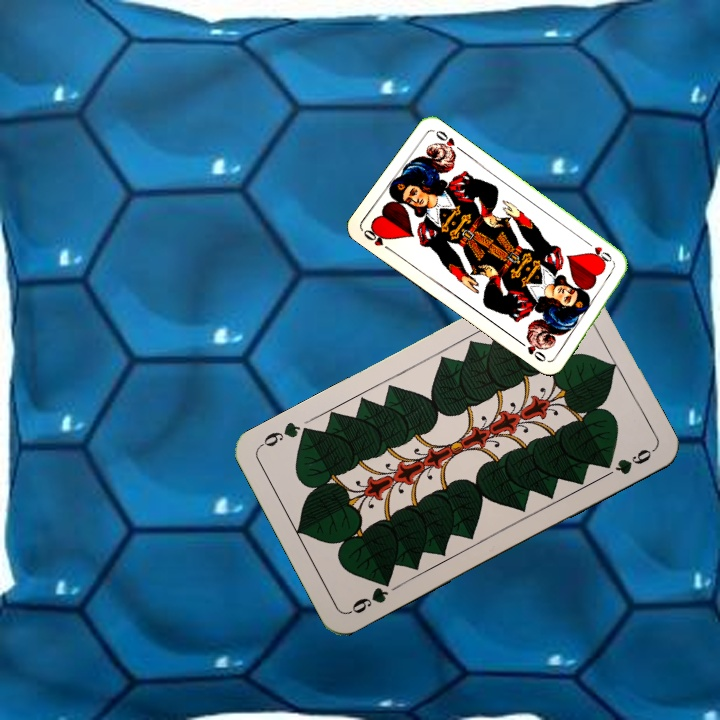G9: (345, 573, 394, 617)
HO: (359, 223, 395, 254), (583, 238, 618, 268)
